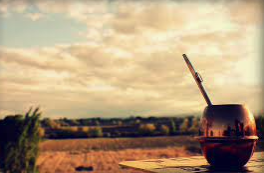mate: (179, 49, 258, 173)
